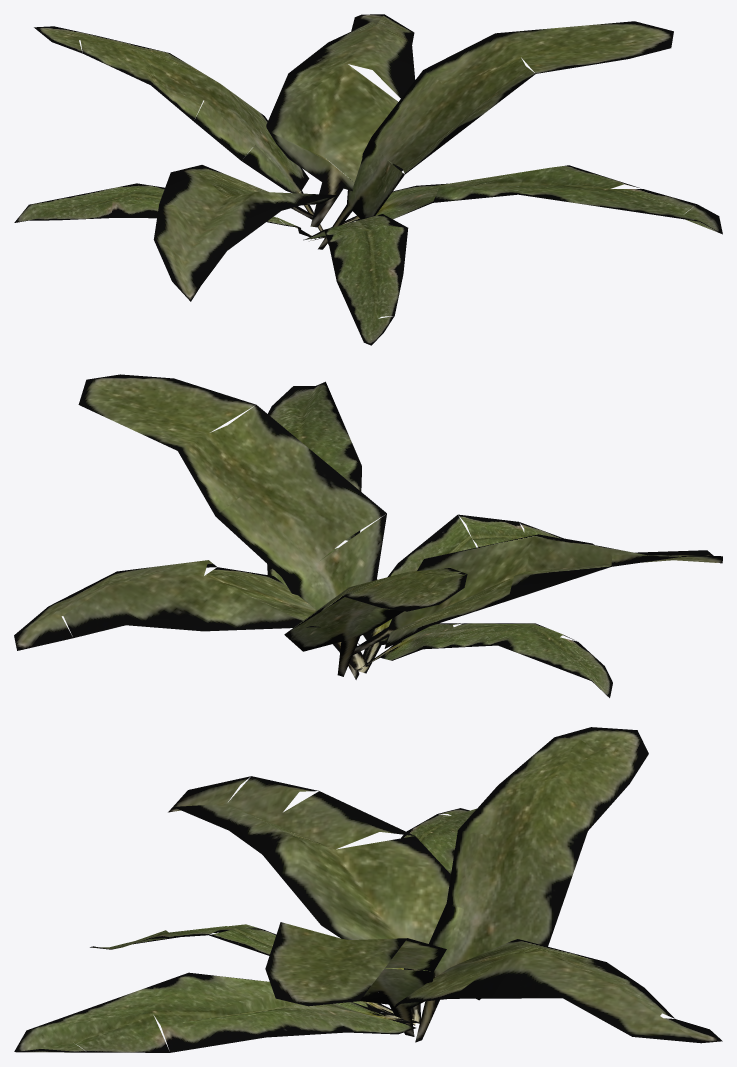
Rendered from flower_orange.glb.
3 renders of one model, top to bottom at view 1: azimuth 30°, elevation 25°; view 2: azimuth 150°, elevation 25°; view 3: azimuth 270°, elevation 25°, orthographic. The views are drawn at different scales.
Visible parts, largest first — view 1: flower_gazania_a_LOD0; view 2: flower_gazania_a_LOD0; view 3: flower_gazania_a_LOD0.
Boxes of the visible parts, x1,y1,x2,y2 form: flower_gazania_a_LOD0: [14, 14, 722, 345]; flower_gazania_a_LOD0: [14, 374, 722, 697]; flower_gazania_a_LOD0: [14, 727, 722, 1052].
Size of the model in its own units: 0.1382 by 0.0439 by 0.1334.
Materials: 1 (1 with a texture image).
